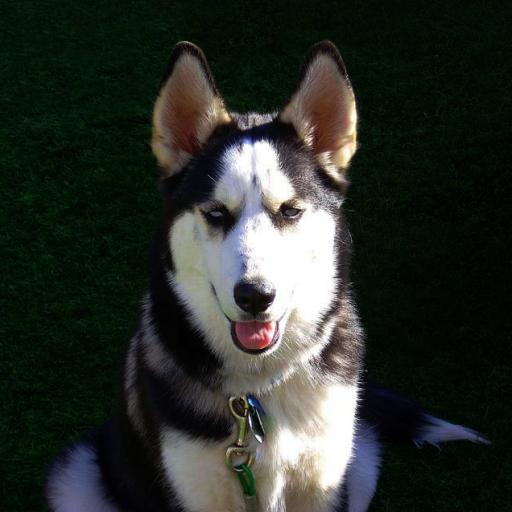dog_face: (153, 44, 355, 334)
